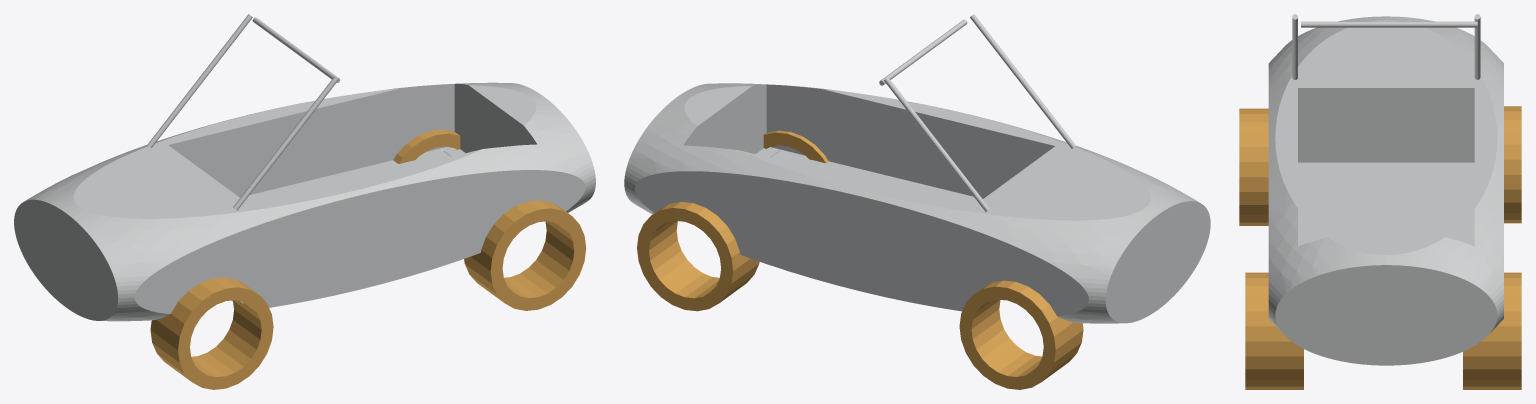
File: car.glb
The picture shows the model from 3 angles, left to right: view 1: azimuth 30°, elevation 25°; view 2: azimuth 150°, elevation 25°; view 3: azimuth 270°, elevation 25°; orthographic projection. The views are drawn at different scales.
Parts seen in each view (by area): view 1: Mesh_Mesh_head_geo.001_lambert2SG.001; view 2: Mesh_Mesh_head_geo.001_lambert2SG.001; view 3: Mesh_Mesh_head_geo.001_lambert2SG.001.
Part boxes in pixels (x1=…): Mesh_Mesh_head_geo.001_lambert2SG.001: x1=14, y1=14, x2=595, y2=389; Mesh_Mesh_head_geo.001_lambert2SG.001: x1=624, y1=14, x2=1210, y2=389; Mesh_Mesh_head_geo.001_lambert2SG.001: x1=1239, y1=14, x2=1521, y2=389.
Bounding box in the file's own units: 100 × 51.92 × 48.
